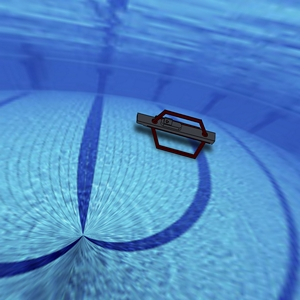submarine: (128, 92, 228, 174)
